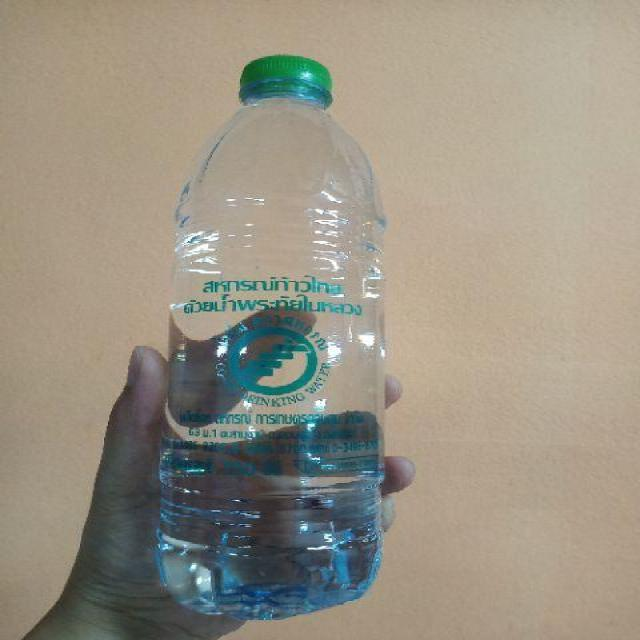bottle: (143, 42, 405, 637)
